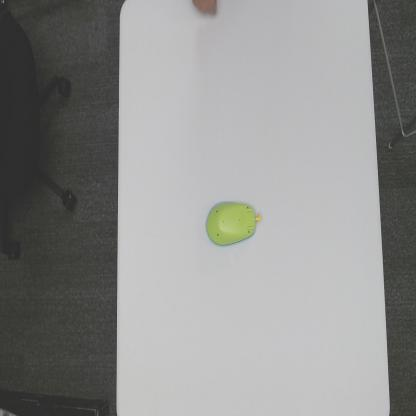Boat: (202, 194, 264, 255)
